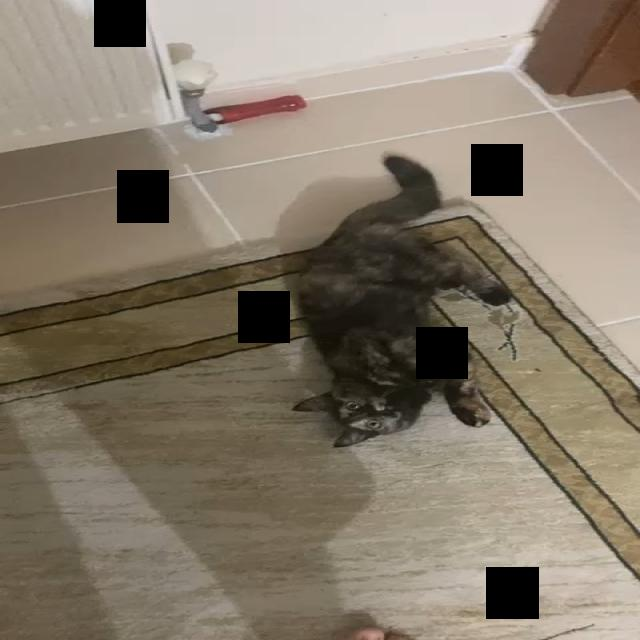authorized: (290, 152, 514, 448)
